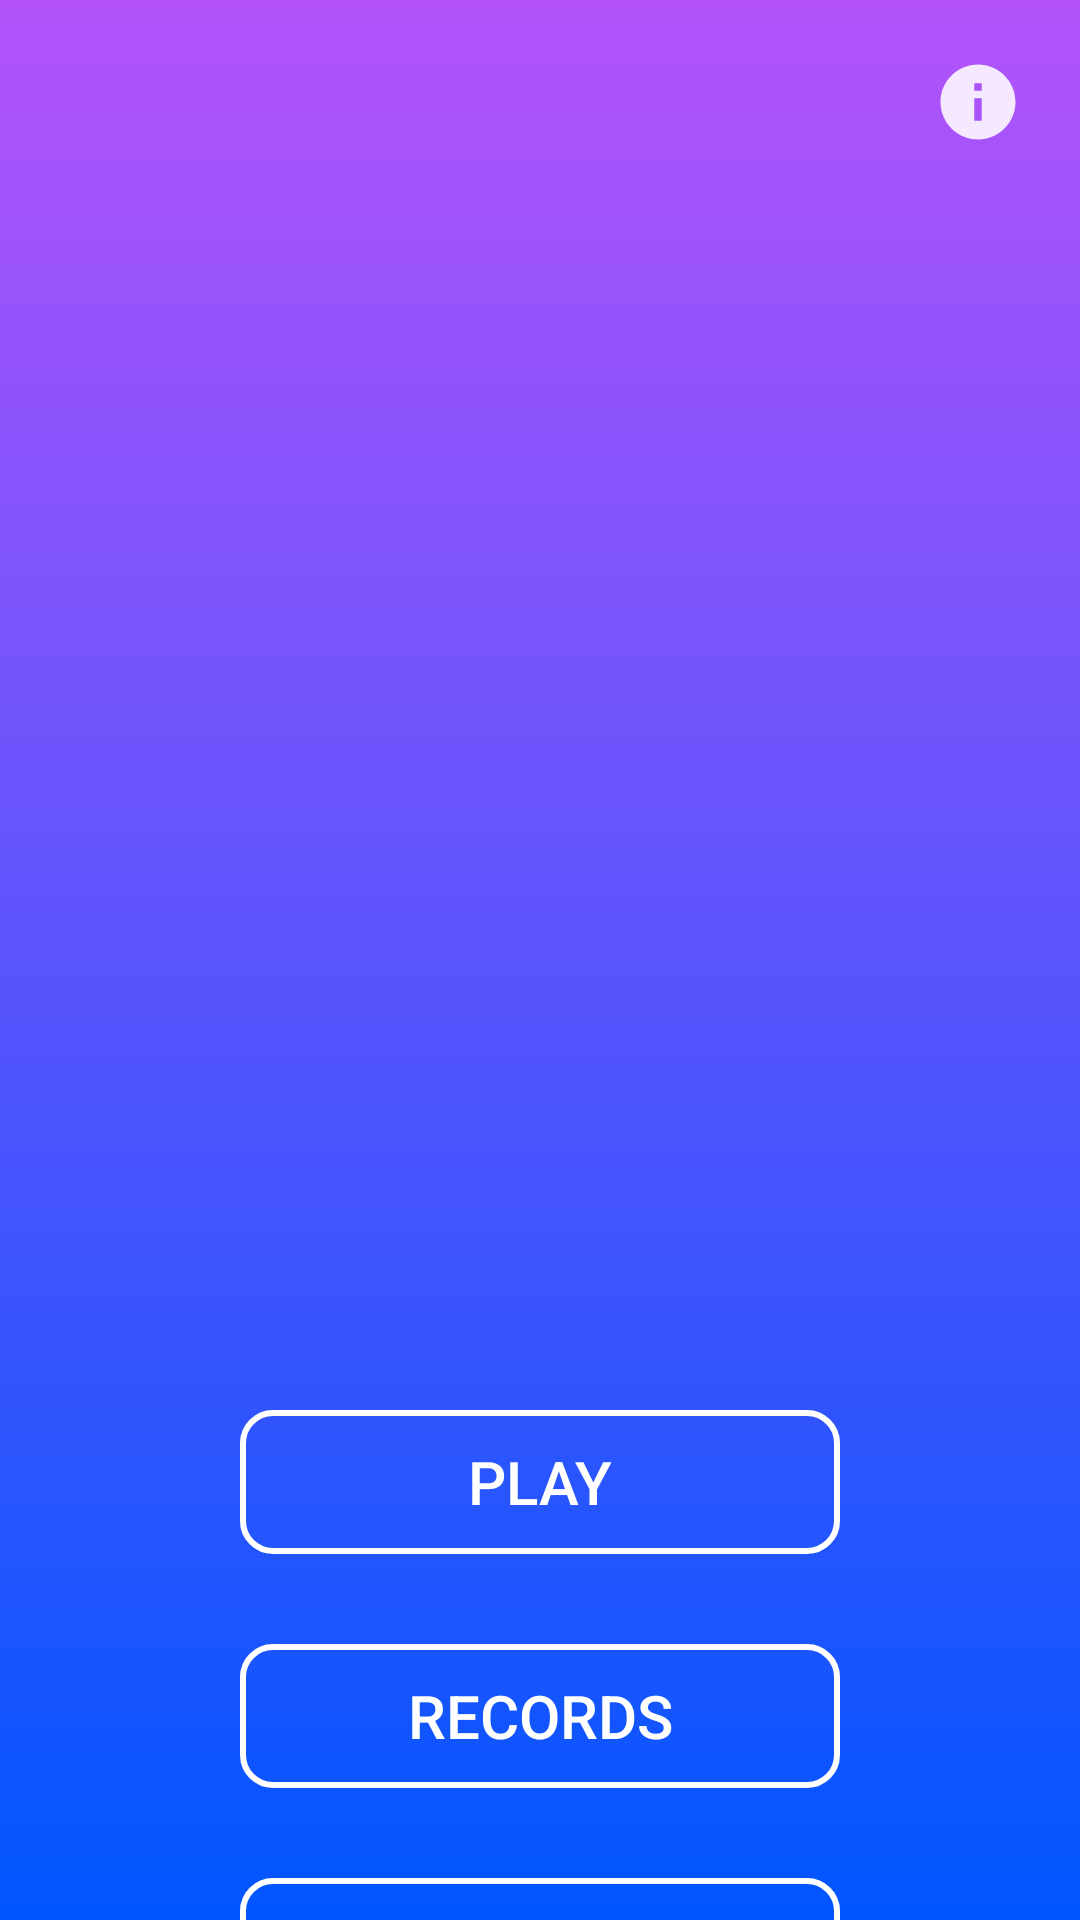

Screen size 1080px×1920px. Icon name, then its box in pixels as {"left": x1, "top": y1, "right": x2, "bottom": y2}:
info: {"left": 940, "top": 64, "right": 1016, "bottom": 140}
